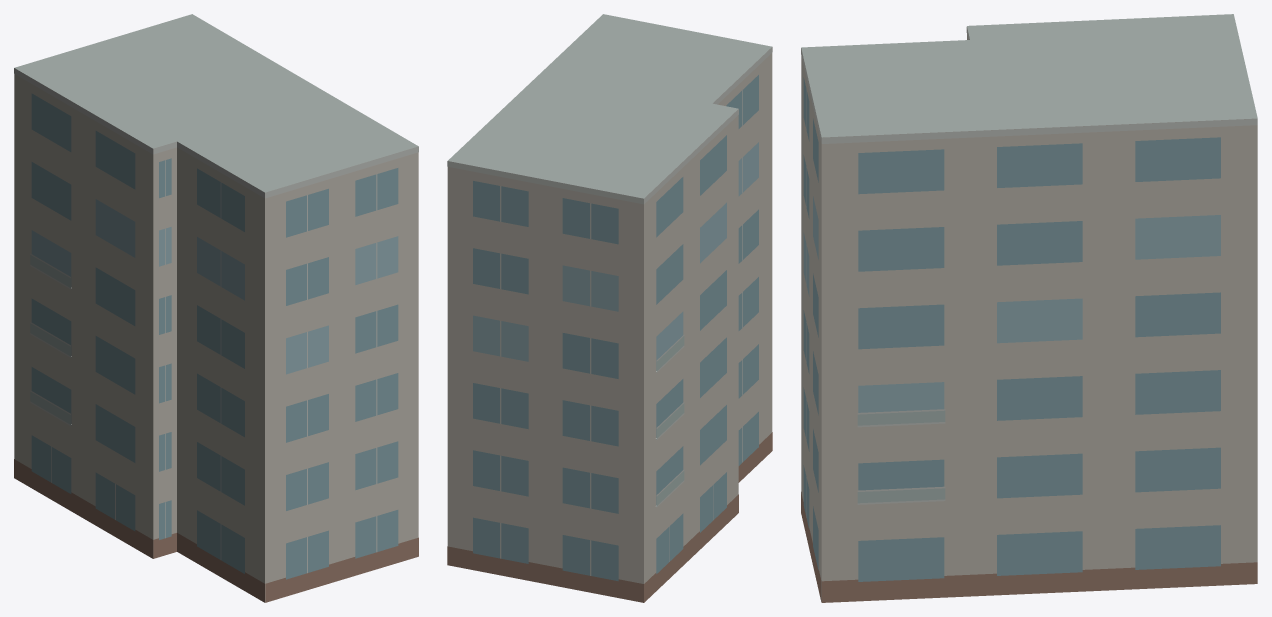
The model's file is survey-upis-32658088.glb.
The picture shows the model from 3 angles, left to right: view 1: azimuth 30°, elevation 25°; view 2: azimuth 150°, elevation 25°; view 3: azimuth 270°, elevation 25°; orthographic projection. The views are drawn at different scales.
Visible parts, largest first — view 1: survey-upis-32658088.tmp; view 2: survey-upis-32658088.tmp; view 3: survey-upis-32658088.tmp.
Boxes of the visible parts, x1,y1,x2,y2 form: survey-upis-32658088.tmp: [14, 14, 418, 602]; survey-upis-32658088.tmp: [447, 14, 772, 602]; survey-upis-32658088.tmp: [801, 14, 1257, 602].
Bounding box in the file's own units: 9.74 × 17.1 × 15.22.
